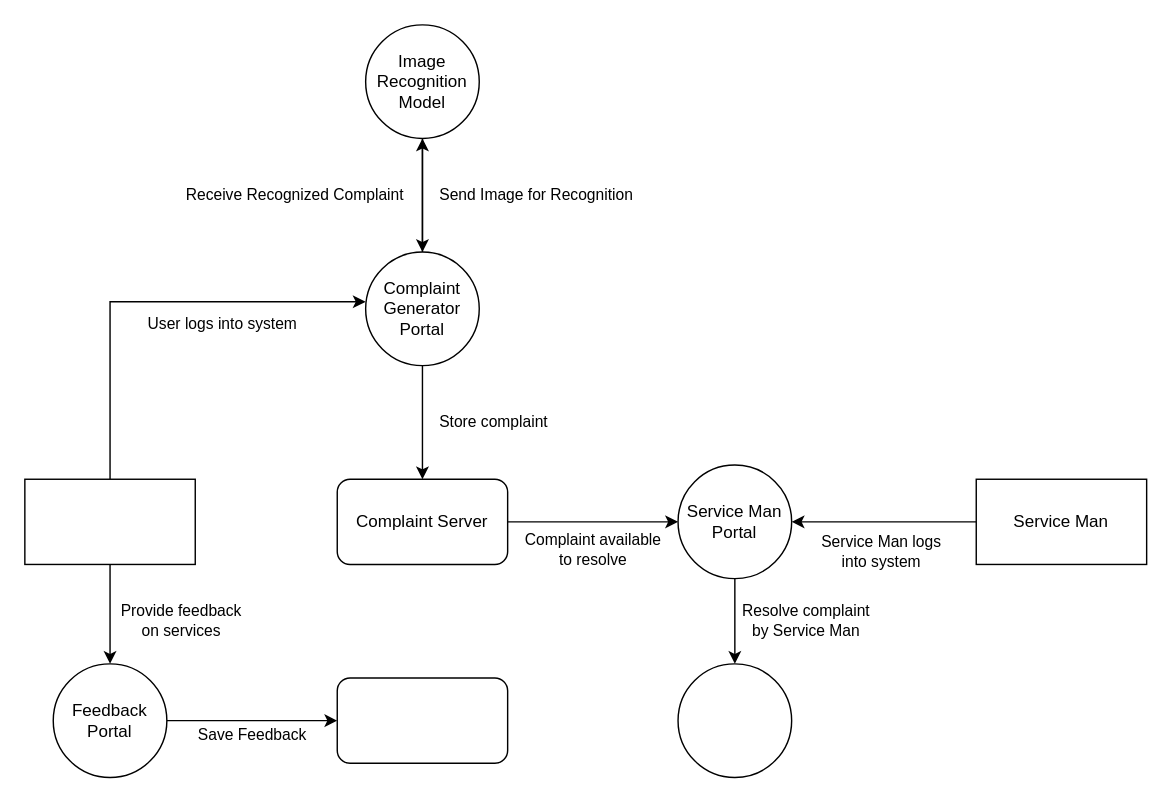
The diagram is 1172 pixels wide and 802 high, and some of its shapes have lost their labels. The centre of each missing label's shape, as x and y in pixels:
Resolve Complaint: pixel 734 719
Service Man Server: pixel 422 720
USER: pixel 109 521
